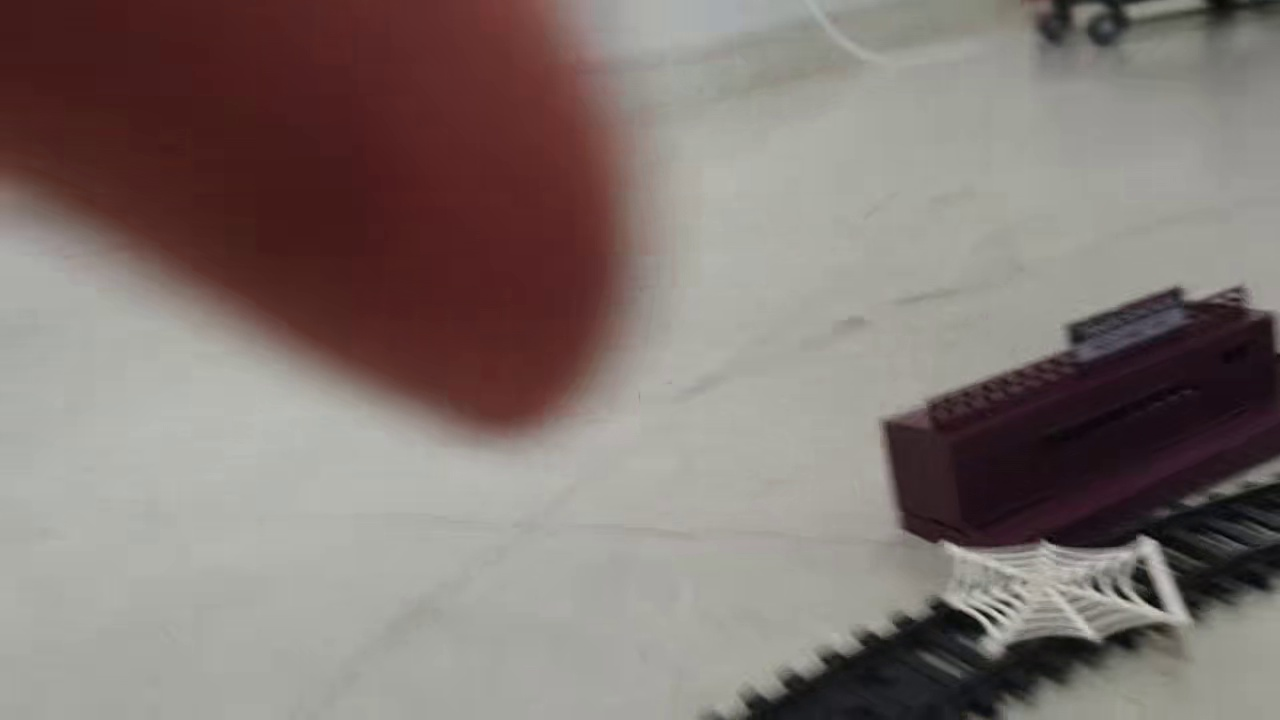web: (934, 531, 1194, 657)
